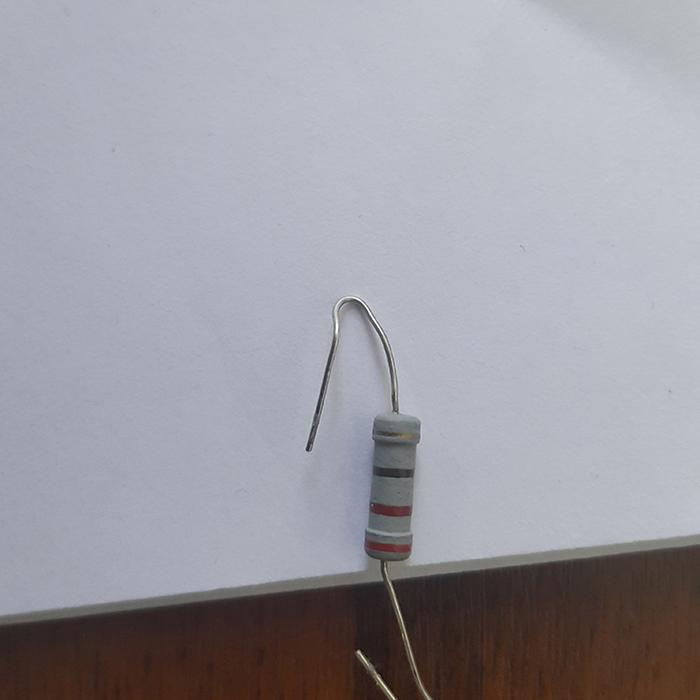resistor: (363, 410, 421, 563)
